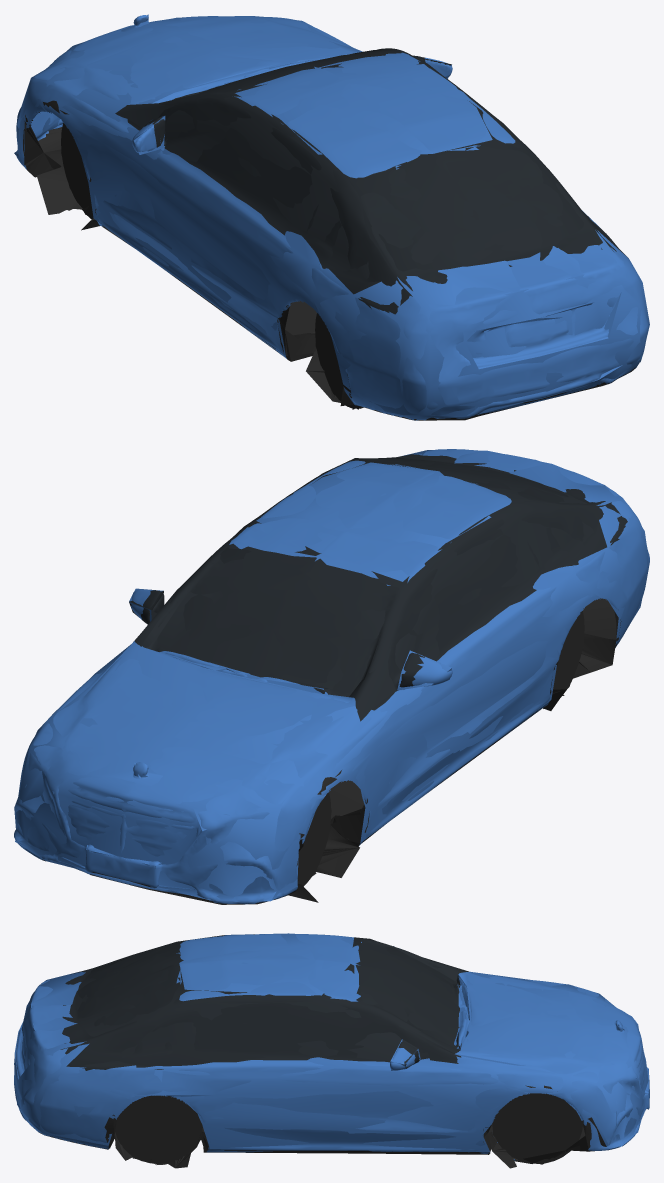
The model's file is mercedes-benz-s-class.glb.
3 views of the same model, one above another, from view 1: azimuth 30°, elevation 25°; view 2: azimuth 150°, elevation 25°; view 3: azimuth 270°, elevation 25° (orthographic). The views are drawn at different scales.
Visible parts, largest first — view 1: body, far; view 2: body, far; view 3: body, far.
Boxes of the visible parts, <box> form: body: <box>16,15,648,420</box>; far: <box>14,14,649,416</box>; body: <box>14,449,649,904</box>; far: <box>14,450,648,901</box>; body: <box>14,934,649,1168</box>; far: <box>14,933,648,1164</box>.
Bounding box in the file's own units: 2.28 × 1.53 × 5.28.
